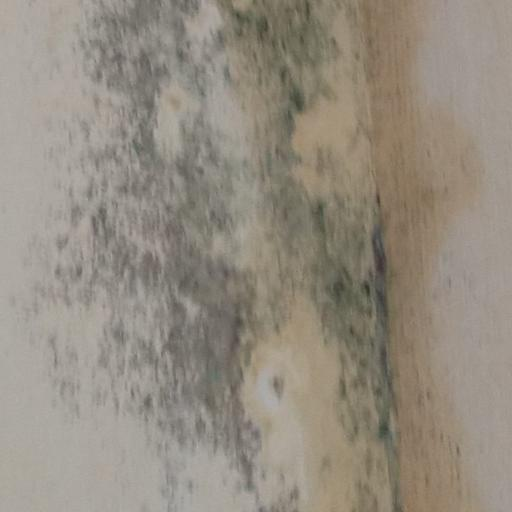algae: (71, 20, 434, 512)
